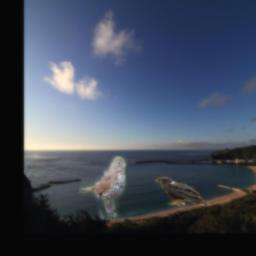Crow: (156, 177, 211, 206)
Sparrow: (80, 156, 127, 220)
